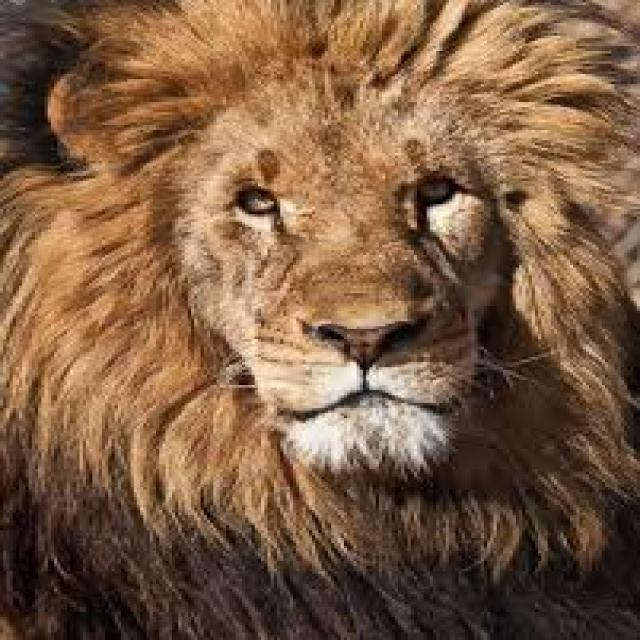Lion: (151, 84, 508, 483)
